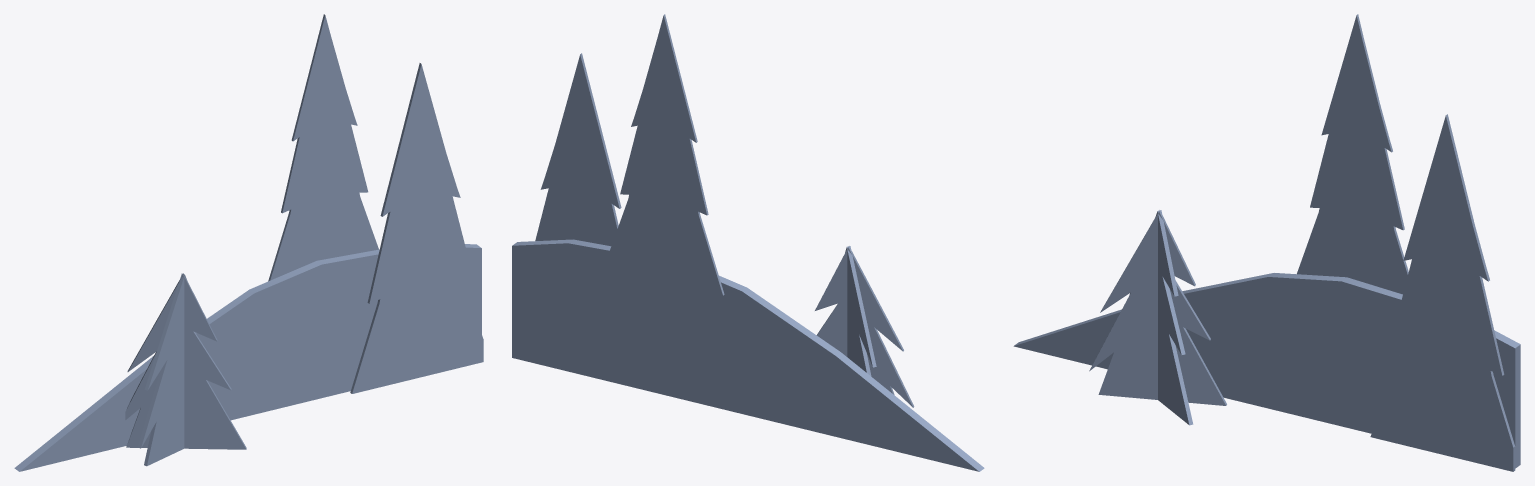
The model's file is frame_0048.glb.
3 renders of one model, left to right at view 1: azimuth 30°, elevation 25°; view 2: azimuth 150°, elevation 25°; view 3: azimuth 330°, elevation 25°, orthographic. The views are drawn at different scales.
Parts seen in each view (by area): view 1: export_trees_001.002; view 2: export_trees_001.002; view 3: export_trees_001.002.
Part boxes in pixels (x1,y1,x2,y2): export_trees_001.002: (14,14,483,471); export_trees_001.002: (512,14,984,471); export_trees_001.002: (1013,14,1520,471).
Size of the model in its own units: 0.3388 by 0.2652 by 0.0496.
